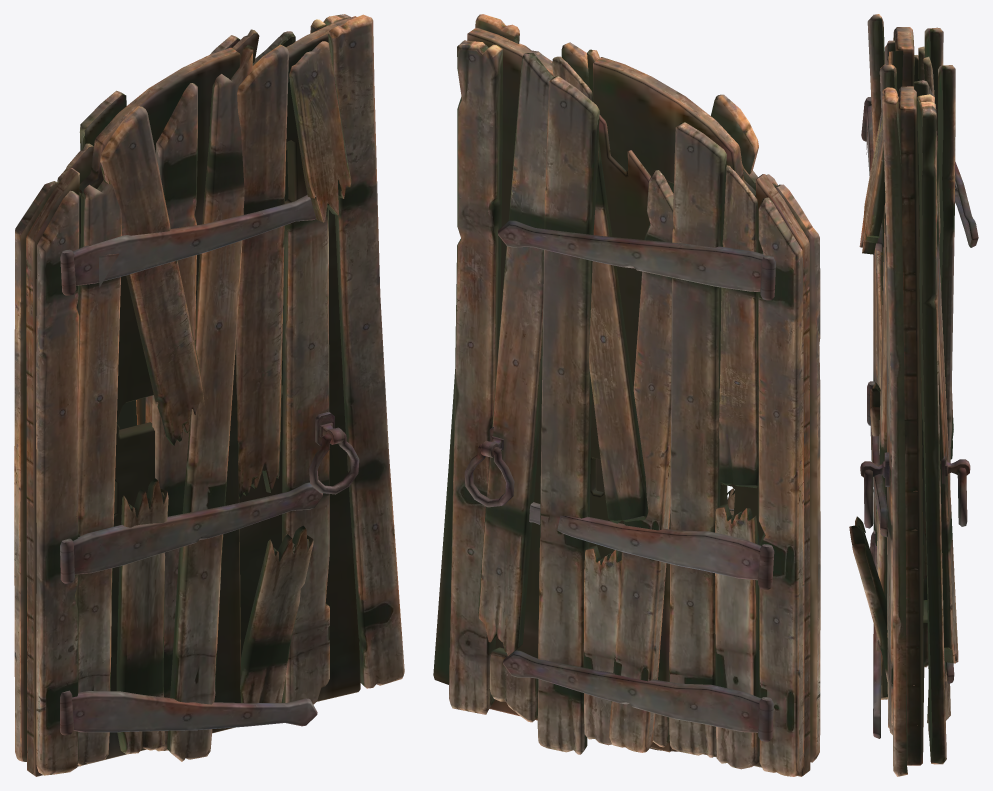
3 renders of one model, left to right at view 1: azimuth 30°, elevation 25°; view 2: azimuth 150°, elevation 25°; view 3: azimuth 270°, elevation 25°, orthographic. The views are drawn at different scales.
Visible parts, largest first — view 1: SM_Brynmoor_Castle_Doors_02_B_LOD0; view 2: SM_Brynmoor_Castle_Doors_02_B_LOD0; view 3: SM_Brynmoor_Castle_Doors_02_B_LOD0.
Part boxes in pixels (bbox=[...]): SM_Brynmoor_Castle_Doors_02_B_LOD0: bbox=[14, 14, 404, 776]; SM_Brynmoor_Castle_Doors_02_B_LOD0: bbox=[433, 14, 820, 776]; SM_Brynmoor_Castle_Doors_02_B_LOD0: bbox=[849, 14, 978, 776].
Size of the model in its own units: 3.95 by 6.99 by 1.2.
1 material, 1 textured.
